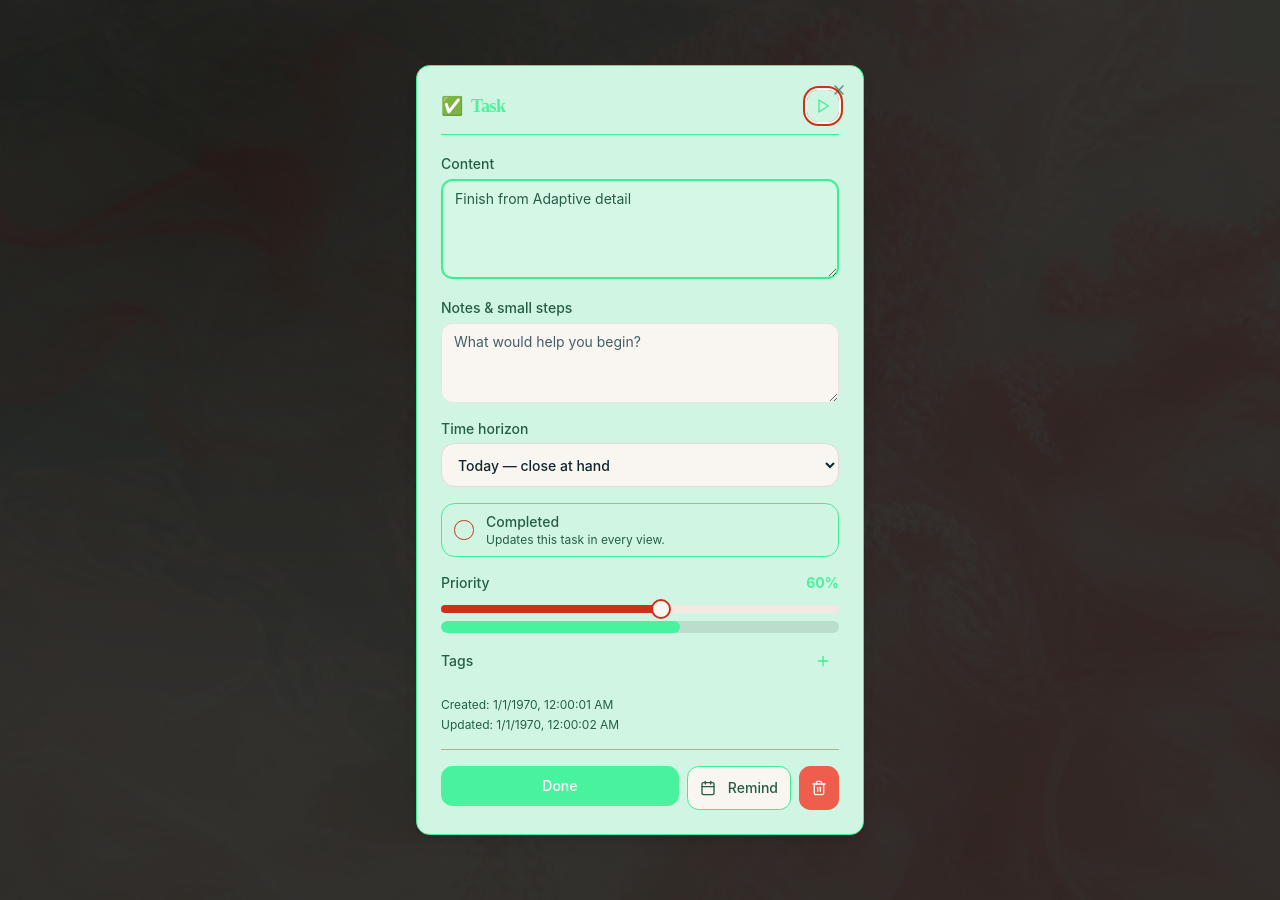
Test: BubbleDetail canonical completion › keeps completion unchanged and exposes a durable-write failure
This screenshot has width=1280, height=900.
Click the checkbox named "Completed" at (464, 530), box [454,520,474,540]
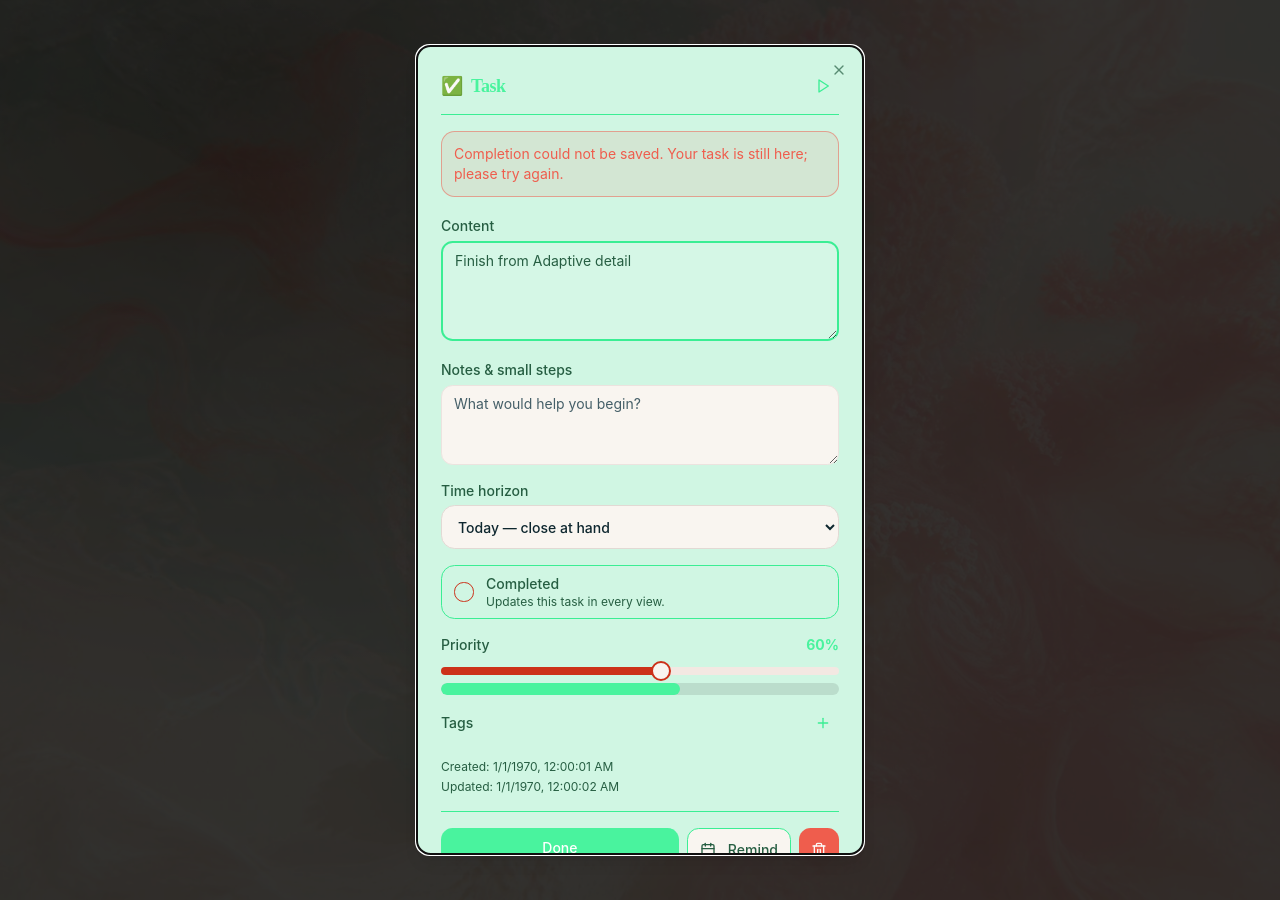
expect the checkbox named "Completed" is not checked: met, box [454,582,474,602]
expect the message shows "Completion could not be saved": met, box [454,145,808,182]
